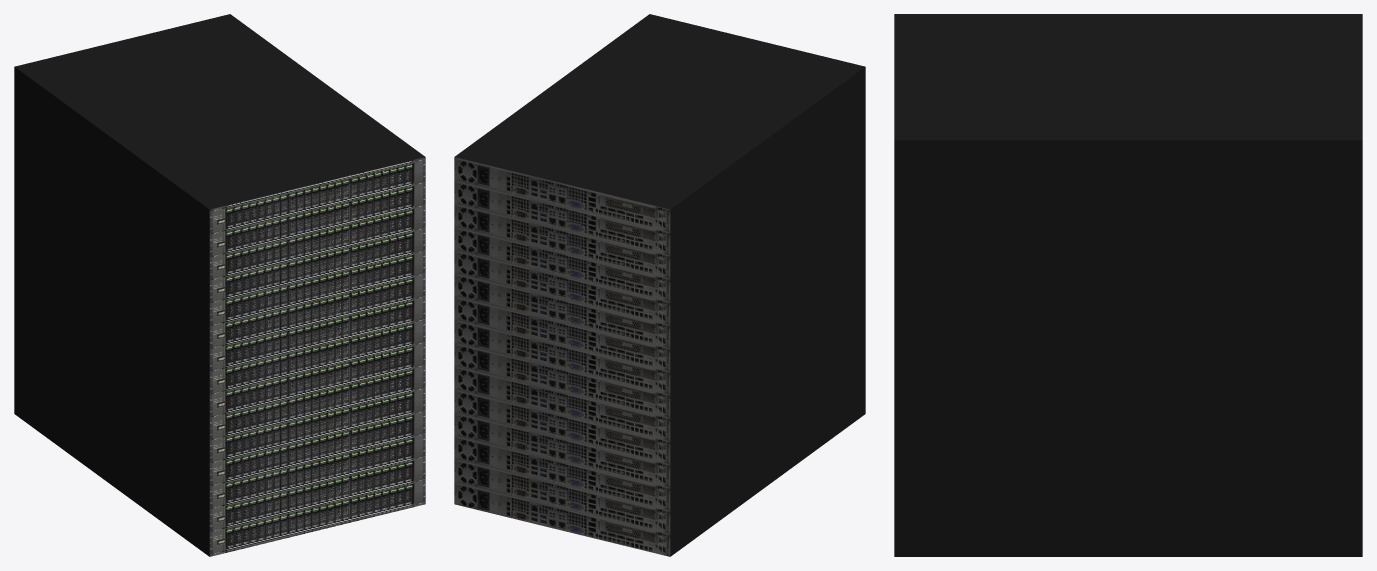
File: ADR15.fbx
3 renders of one model, left to right at view 1: azimuth 30°, elevation 25°; view 2: azimuth 150°, elevation 25°; view 3: azimuth 270°, elevation 25°, orthographic. The views are drawn at different scales.
Visible parts, largest first — view 1: ADR15; view 2: ADR15; view 3: ADR15.
Part boxes in pixels (x1,y1,x2,y2): ADR15: [14, 14, 425, 556]; ADR15: [454, 14, 865, 556]; ADR15: [894, 14, 1362, 556].
Bounding box in the file's own units: 434 × 668 × 680.
3 materials, 2 textured.
